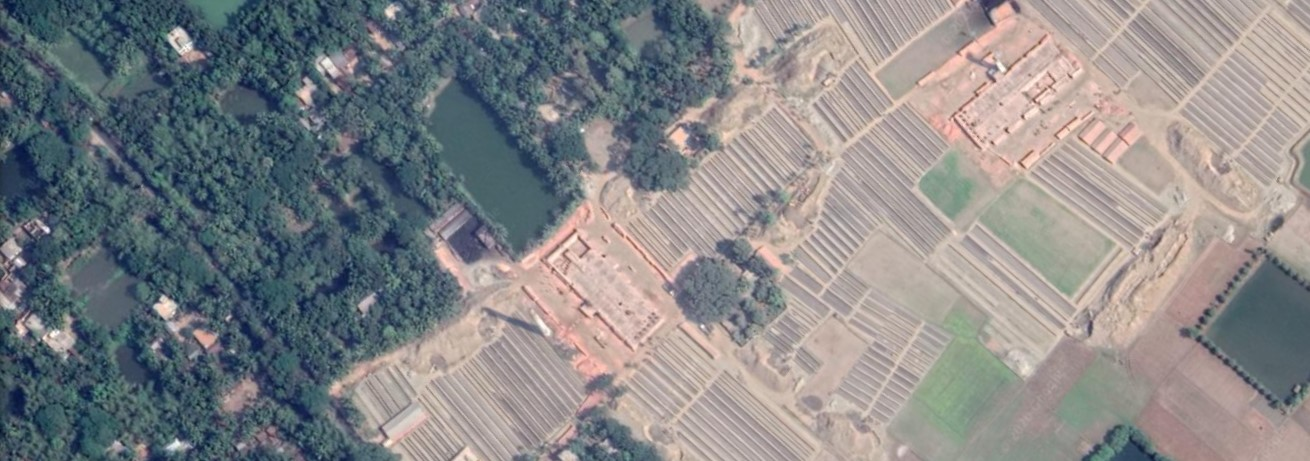kiln: (506, 268, 667, 373), (935, 45, 1068, 135)
